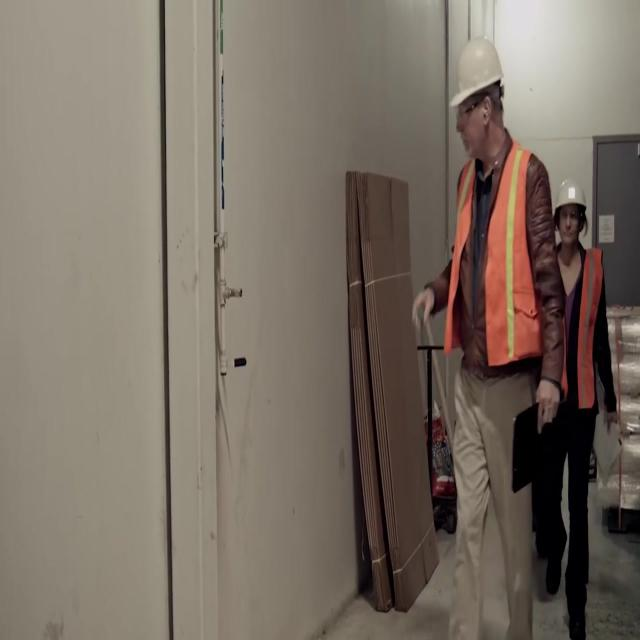Reflective-Jacket: (435, 140, 559, 390), (550, 239, 618, 437)
Safety-Helmet: (444, 26, 514, 121), (550, 165, 594, 225)
